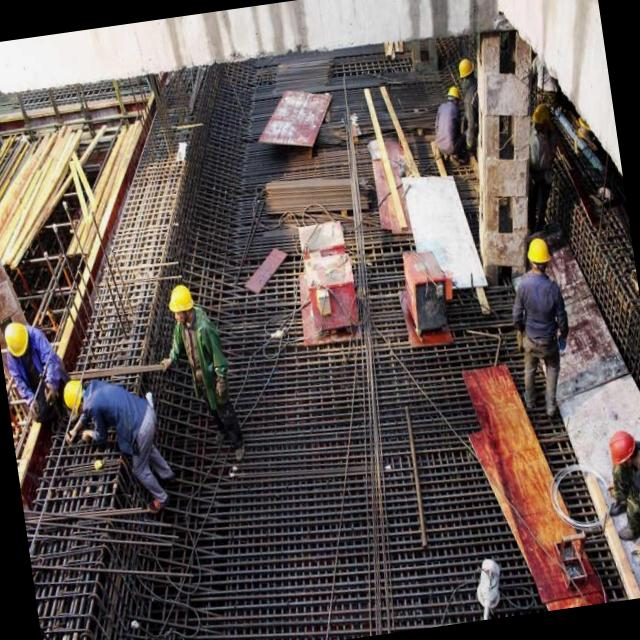helmet: (0, 317, 33, 360), (165, 278, 198, 320), (604, 430, 639, 465), (525, 235, 552, 265), (59, 384, 88, 409)
